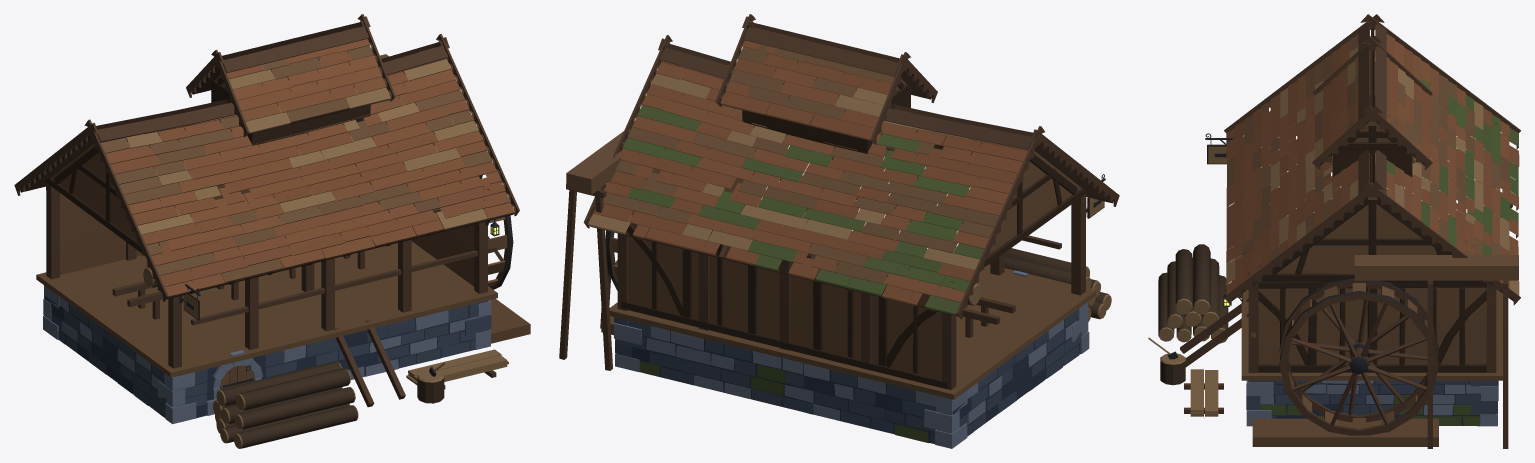
Rendered from sawmill.glb.
3 views of the same model, side by side, from view 1: azimuth 30°, elevation 25°; view 2: azimuth 150°, elevation 25°; view 3: azimuth 270°, elevation 25° (orthographic). The views are drawn at different scales.
Parts seen in each view (by area): view 1: isl_sawmill; view 2: isl_sawmill; view 3: isl_sawmill.
Part boxes in pixels (box(x1,y1,x2,y2)): isl_sawmill: box(14, 14, 530, 448); isl_sawmill: box(559, 14, 1119, 448); isl_sawmill: box(1148, 14, 1520, 448).
Size of the model in its own units: 9.71 by 7.26 by 8.41.
